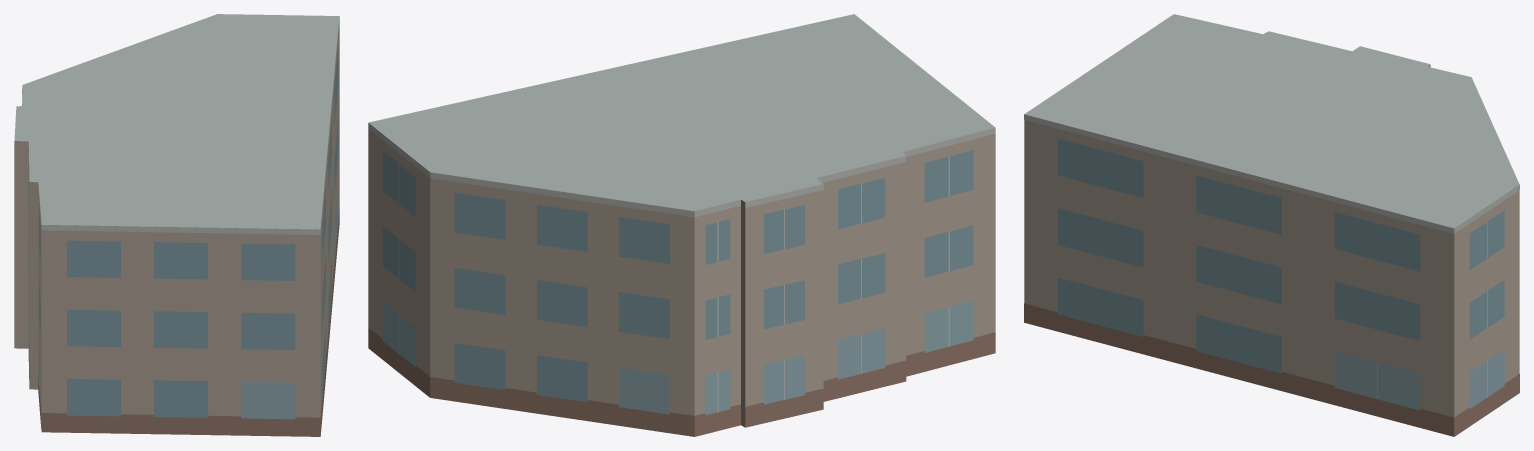
Rendered from survey-upis-32585591.glb.
3 views of the same model, side by side, from view 1: azimuth 30°, elevation 25°; view 2: azimuth 150°, elevation 25°; view 3: azimuth 270°, elevation 25° (orthographic). The views are drawn at different scales.
Parts seen in each view (by area): view 1: survey-upis-32585591.tmp; view 2: survey-upis-32585591.tmp; view 3: survey-upis-32585591.tmp.
Boxes of the visible parts, <box> form: survey-upis-32585591.tmp: <box>14,14,339,436</box>; survey-upis-32585591.tmp: <box>368,14,995,436</box>; survey-upis-32585591.tmp: <box>1024,14,1519,436</box>.
Bounding box in the file's own units: 20.2 × 9.15 × 19.73.
